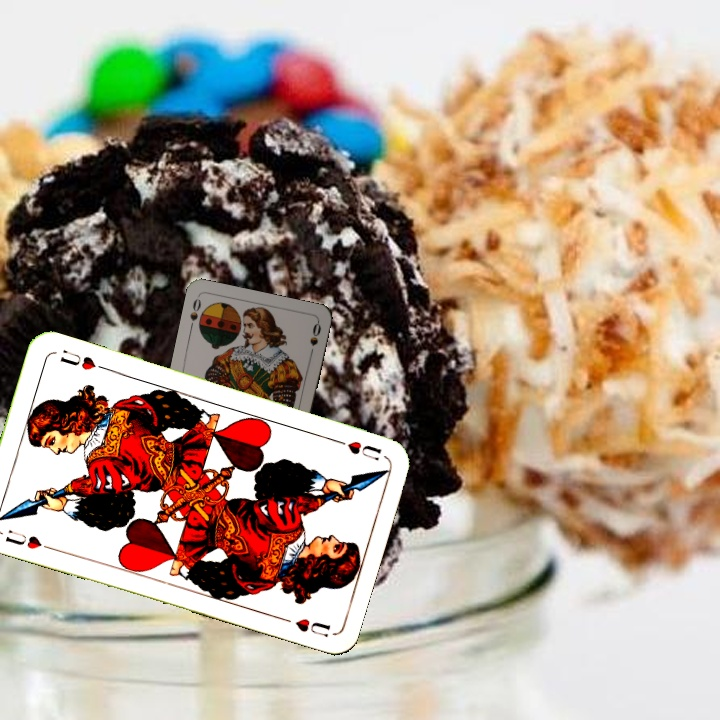HU: (328, 434, 384, 463), (1, 526, 55, 553)
SO: (186, 294, 204, 333)
